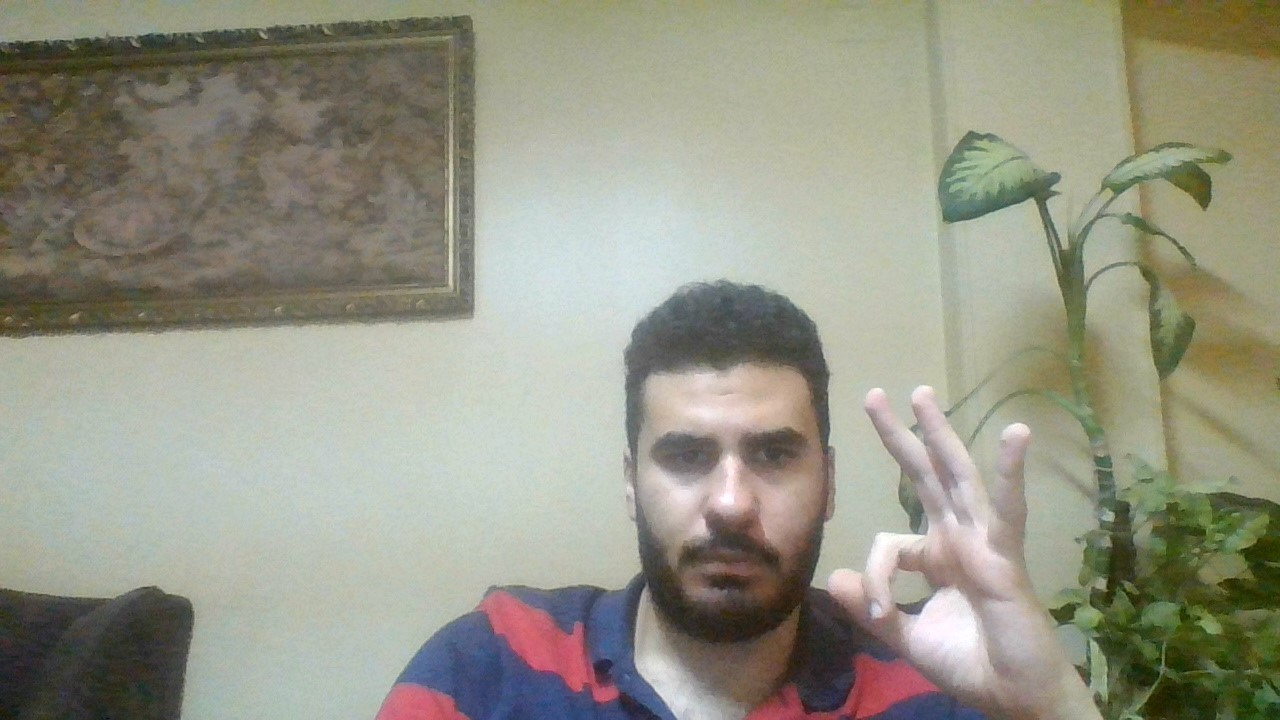okay: (823, 371, 1083, 703)
